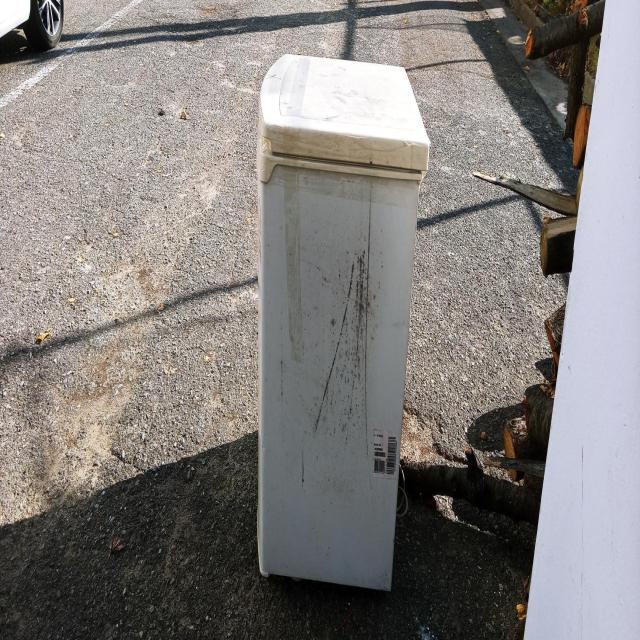refrigerator: (254, 50, 432, 597)
